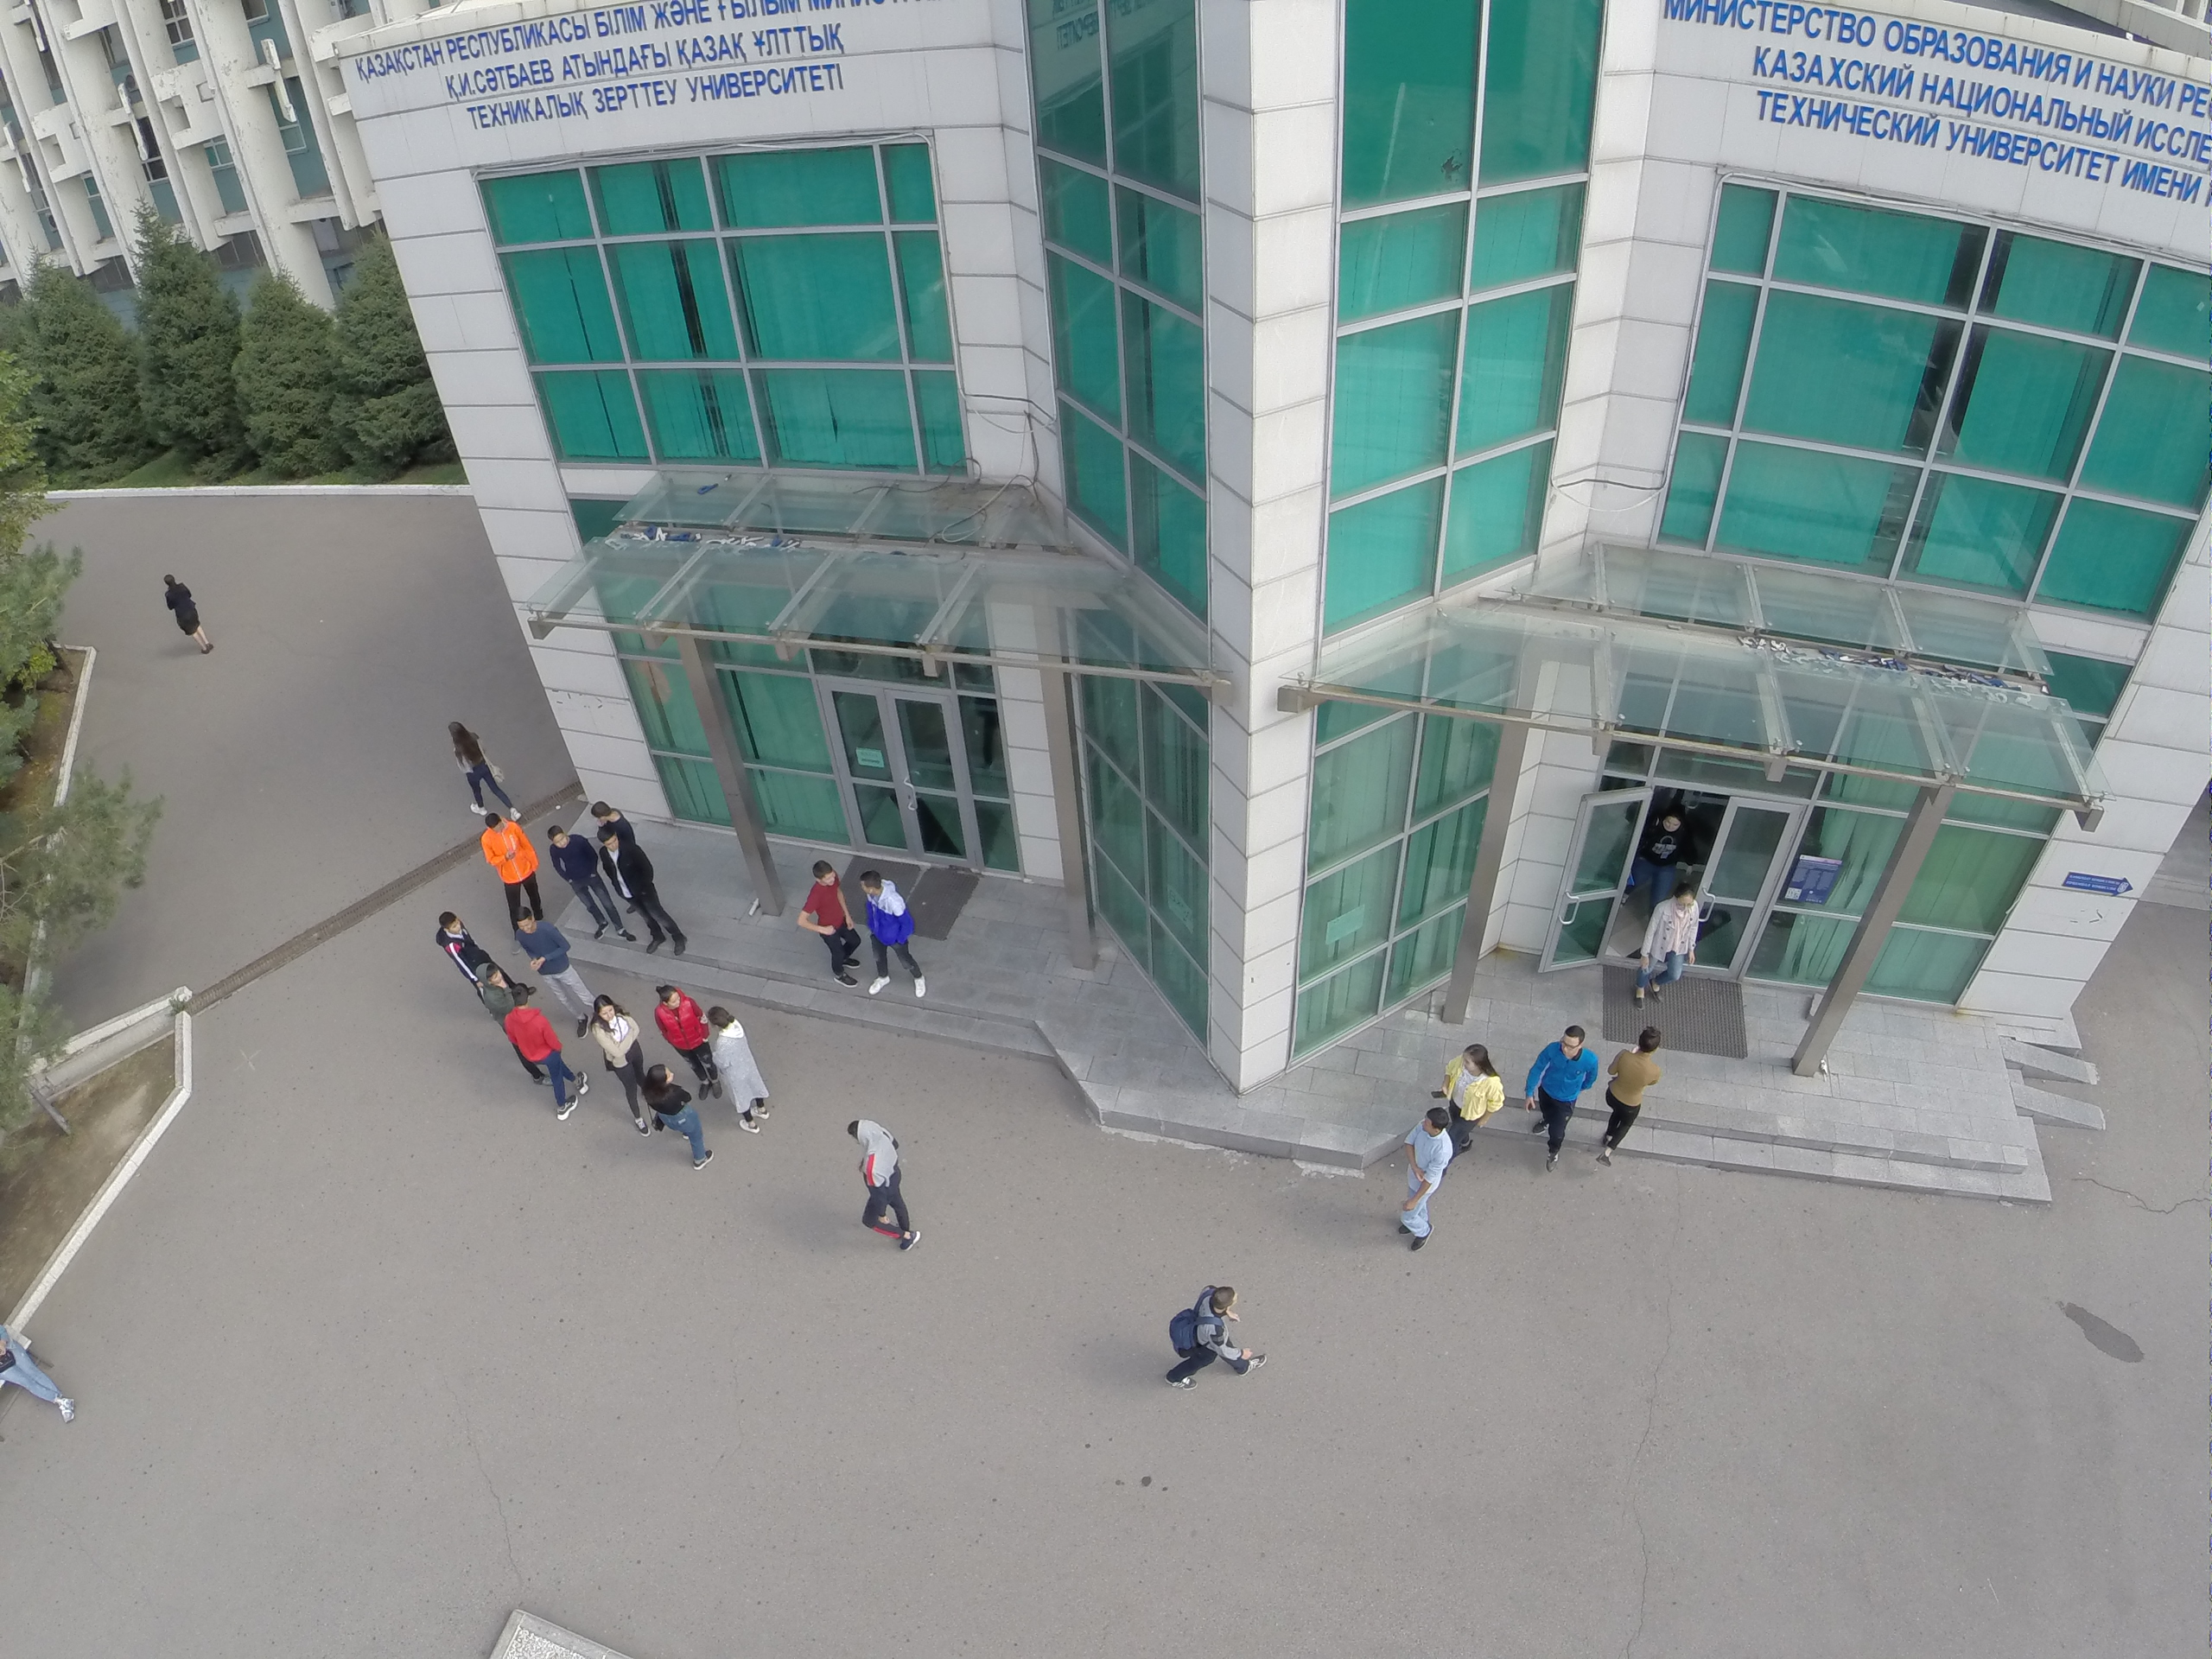person: (508, 983, 590, 1132), (594, 827, 690, 956), (1162, 1283, 1268, 1394), (544, 825, 639, 948), (1524, 1023, 1599, 1172), (841, 1117, 922, 1255), (795, 859, 863, 991), (857, 869, 928, 998), (704, 1005, 771, 1137), (642, 1062, 713, 1185), (1397, 1105, 1454, 1255), (1604, 1026, 1662, 1169), (438, 718, 525, 811), (594, 995, 648, 1142), (1635, 888, 1697, 1006), (1448, 1038, 1503, 1160), (480, 810, 546, 906), (1638, 804, 1698, 889), (161, 573, 213, 653), (653, 982, 708, 1062), (433, 913, 476, 975)
